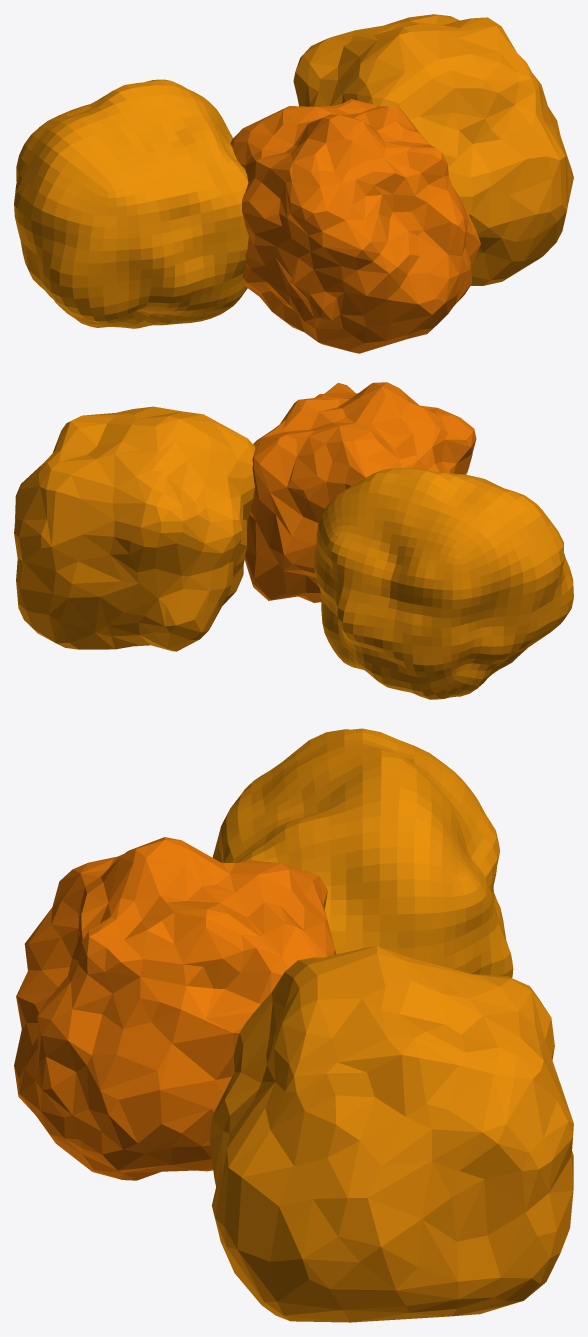
The model's file is Bush big 2.3.fbx.
3 views of the same model, one above another, from view 1: azimuth 30°, elevation 25°; view 2: azimuth 150°, elevation 25°; view 3: azimuth 270°, elevation 25° (orthographic). The views are drawn at different scales.
Visible parts, largest first — view 1: Cube.481; view 2: Cube.481; view 3: Cube.481.
Part boxes in pixels (x1,y1,x2,y2): Cube.481: [14, 14, 573, 353]; Cube.481: [14, 382, 573, 699]; Cube.481: [14, 728, 573, 1322].
Size of the model in its own units: 3488 by 1571 by 2297.
